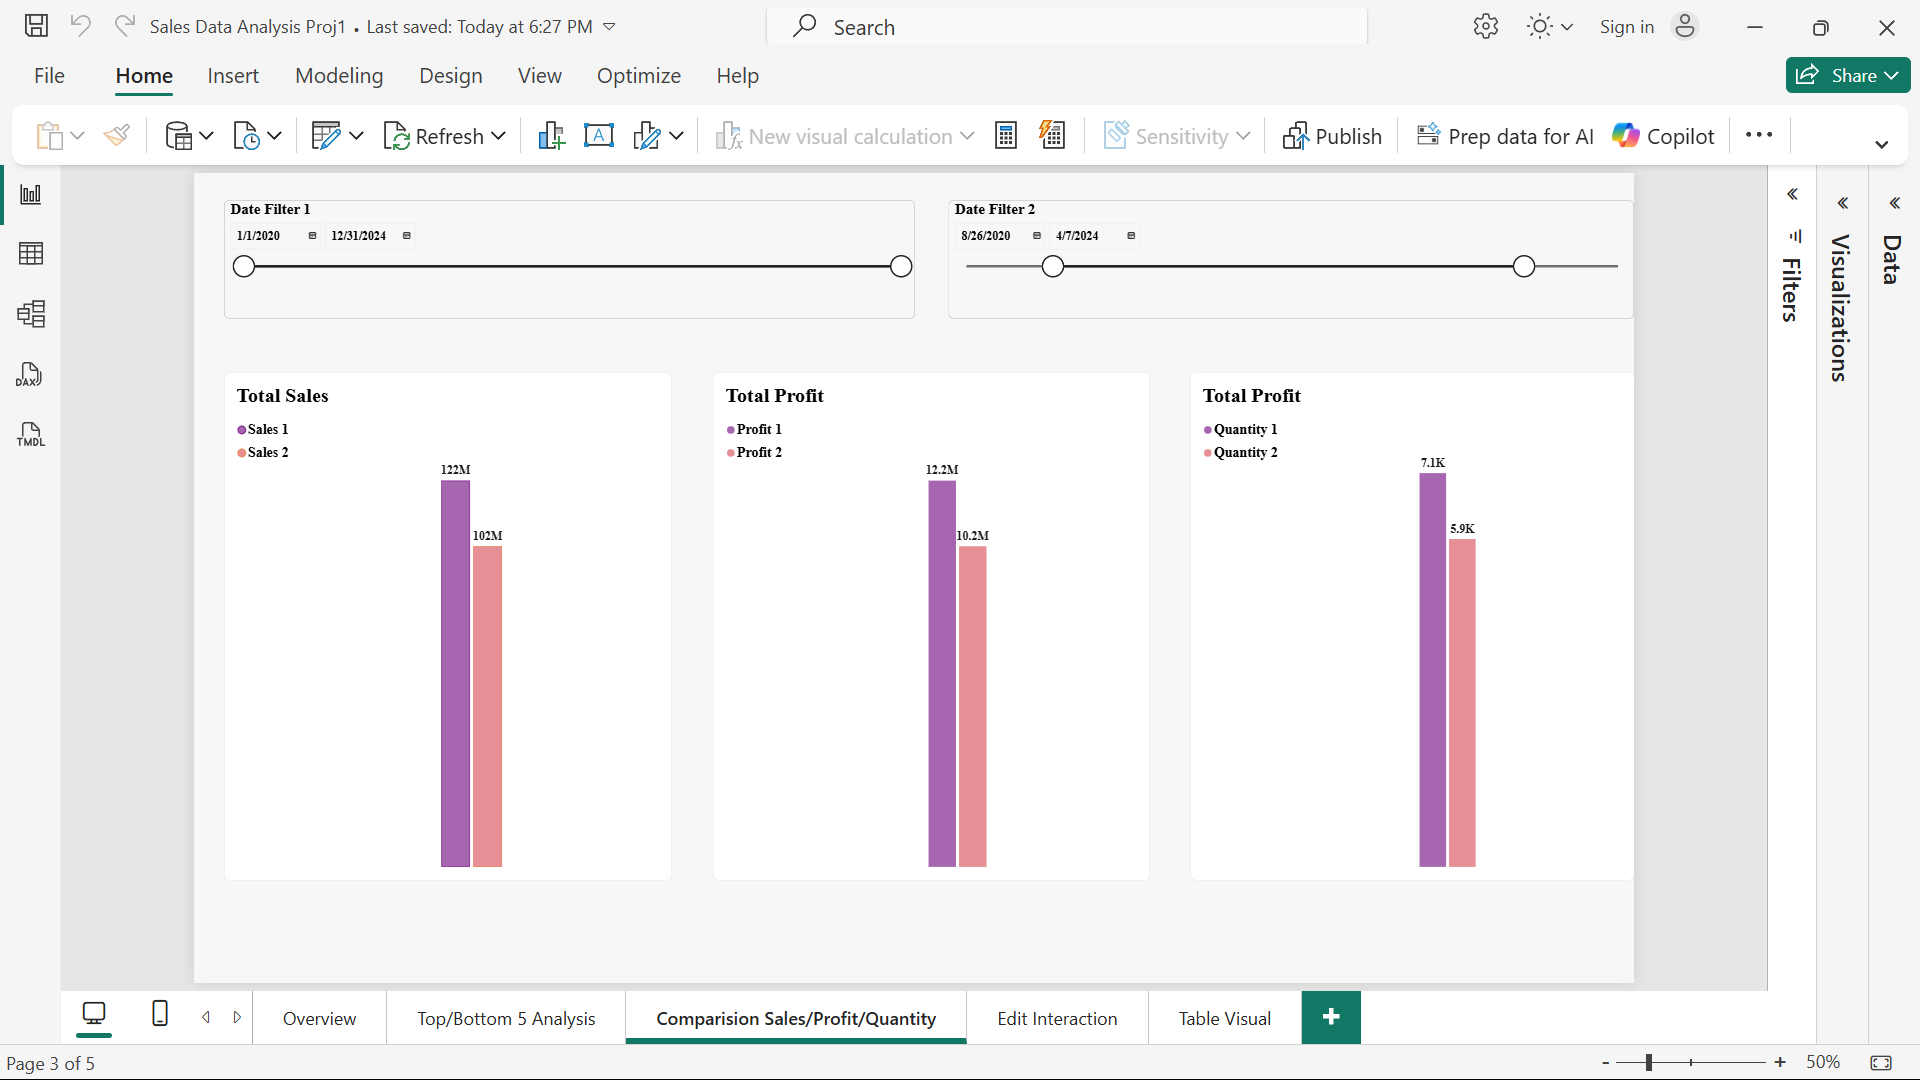

What the dashboard file says about the page in this screenshot:
{"tool":"powerbi","page":{"name":"Comparision Sales/Profit/Quantity","canvas":[1920,1080],"ordinal":2},"visuals":[{"type":"slicer","fields":{"Values":["Date Table 1.Date"]},"box":[40.9,36.3,921.4,159],"z":0},{"type":"slicer","fields":{"Values":["Date Table 2.Date"]},"box":[1005.4,36.3,913.8,159],"z":1000},{"type":"clusteredColumnChart","title":"Total Sales","fields":{"Y":["Sum(Fact Table.Net Sales)","Date Table 1.Sum of Net Sales"]},"box":[40,265,597.5,677.5],"z":2000},{"type":"clusteredColumnChart","title":"Total Profit","fields":{"Y":["Sum(Fact Table.Profit)","Measures Table.Total Profit"]},"box":[692.5,265,582.5,677.5],"z":2001},{"type":"clusteredColumnChart","title":"Total Profit","fields":{"Y":["Sum(Fact Table.Units Sold)","Measures Table.Quantity Sold"]},"box":[1327.5,265,592.5,677.5],"z":2002}]}

Visuals, with their boxes on the page's 1920x1080 design canvas (x1, y1, x2, y2). These are canvas units, not pixel positions in the 1920x1080 screenshot, which may show the page scaled, cropped or inside an application window:
slicer - Date Table 1.Date: 41/36/962/195
slicer - Date Table 2.Date: 1005/36/1919/195
"Total Sales" clusteredColumnChart: 40/265/638/942
"Total Profit" clusteredColumnChart: 692/265/1275/942
"Total Profit" clusteredColumnChart: 1328/265/1920/942
